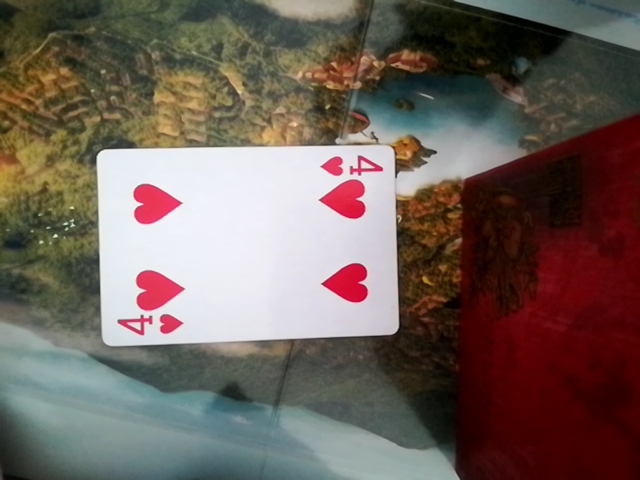hx 4: (88, 146, 406, 346)
